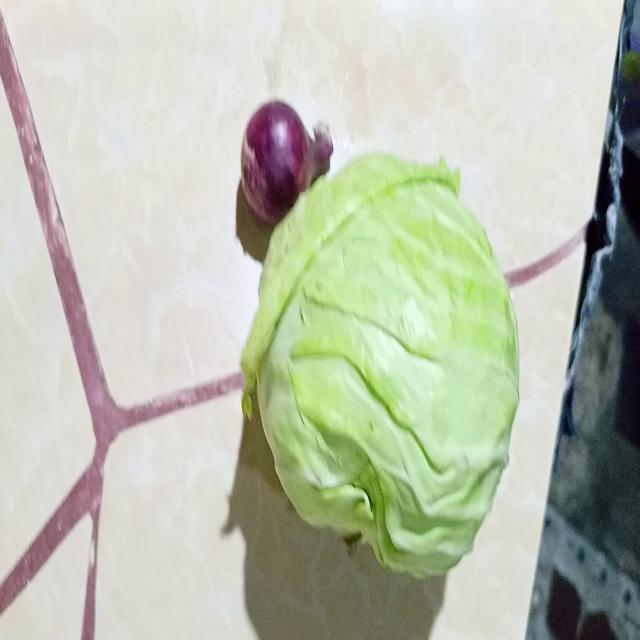cabbage: (242, 153, 521, 579)
onion: (241, 102, 333, 224)
